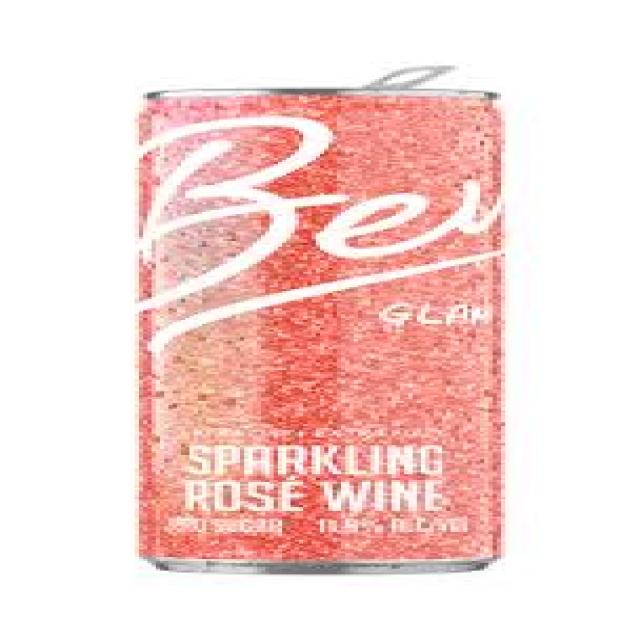Cans: (110, 70, 522, 582)
